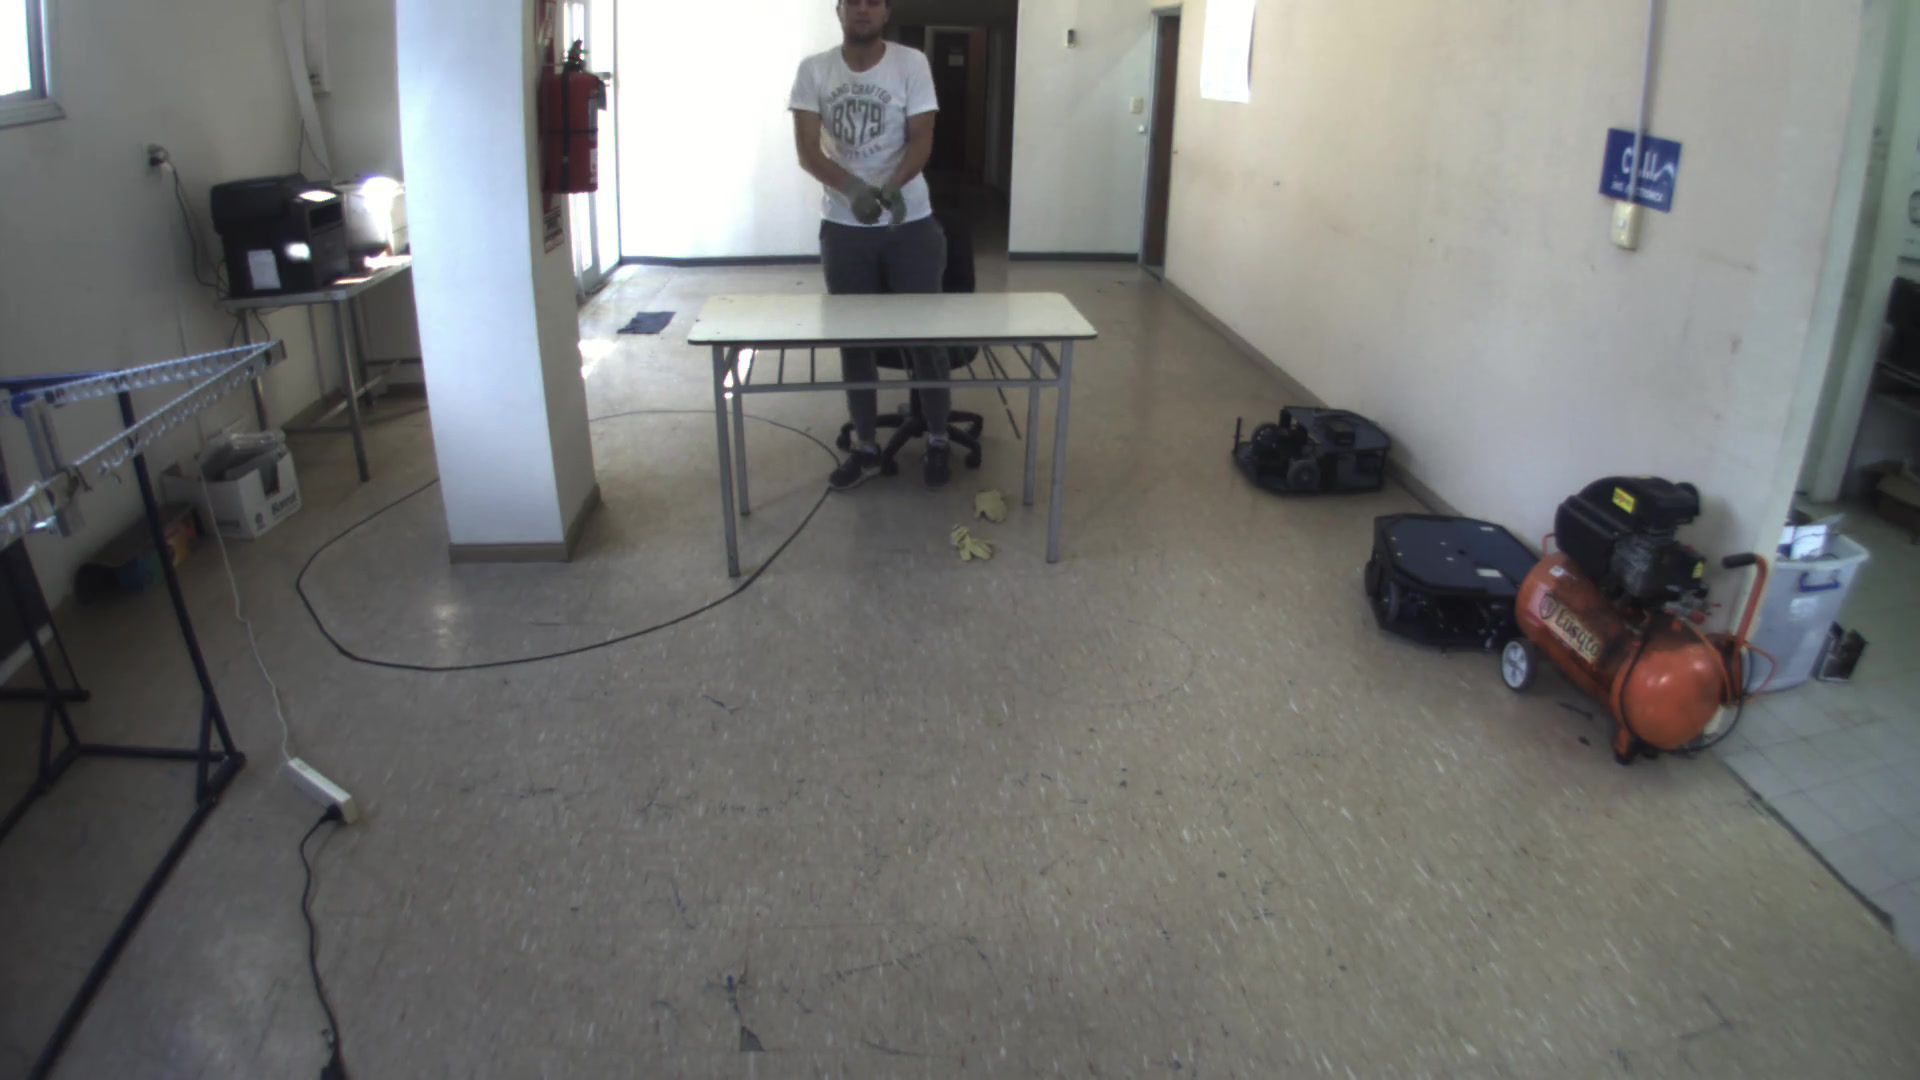hand: (835, 170, 884, 227), (877, 174, 918, 233)
